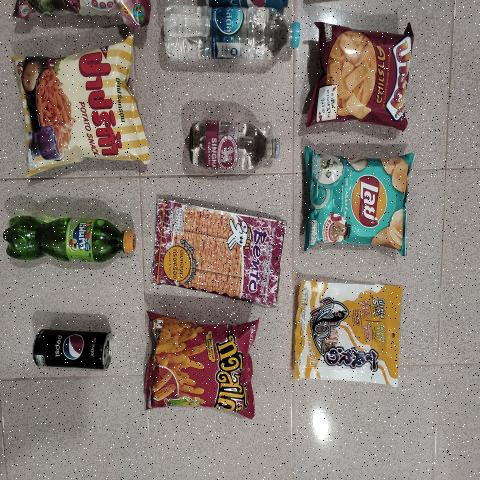bento_red: (152, 203, 284, 306)
crystal: (160, 10, 300, 69)
fanta_green: (1, 214, 138, 269)
lay_blue: (313, 158, 406, 243)
paprika: (15, 52, 144, 164)
party_red: (310, 24, 412, 126)
pepsi_black: (30, 324, 115, 373)
singha_soda: (185, 123, 283, 171)
taro_yellow: (299, 284, 397, 384)
twisco: (146, 315, 253, 418)
